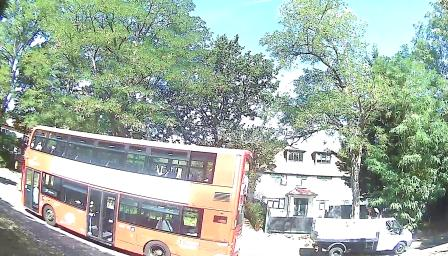Cars: (23, 124, 252, 251), (298, 217, 423, 254)
